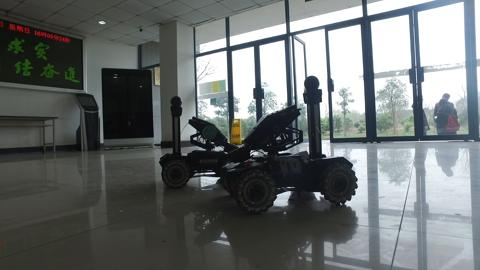chariot: (223, 72, 360, 216), (155, 92, 249, 188)
